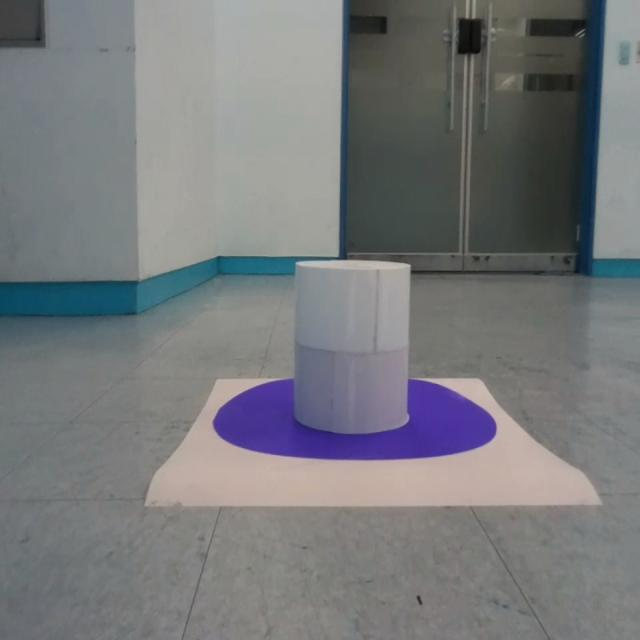cylinder: (292, 259, 412, 435)
